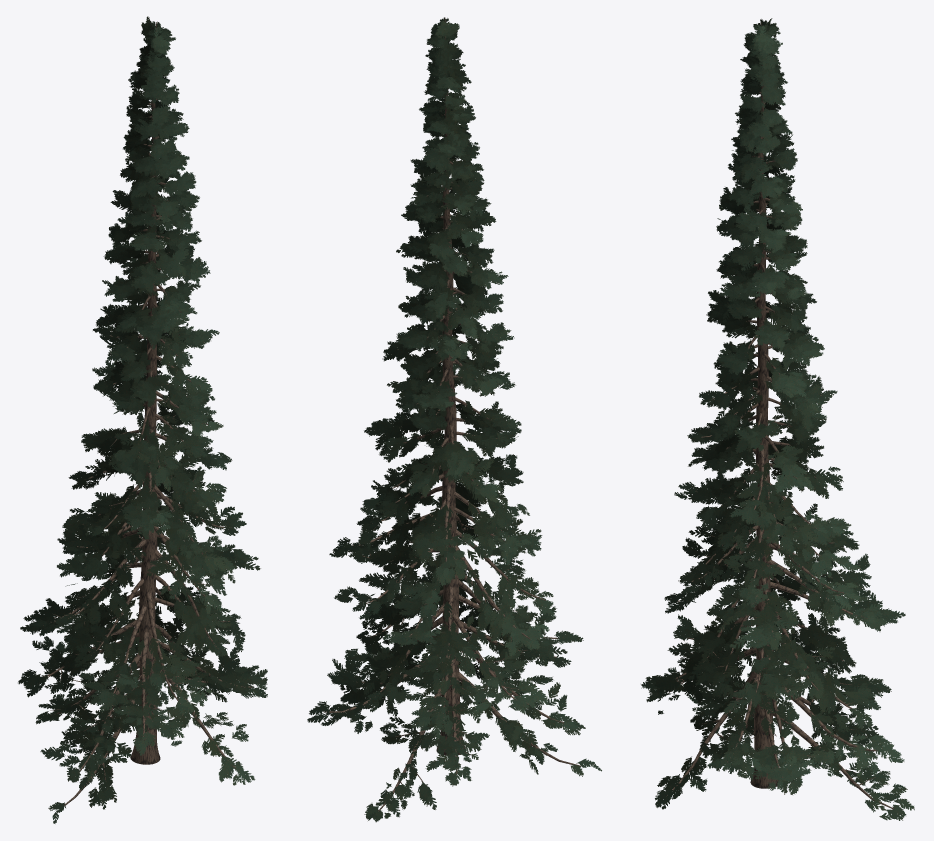
File: pine_c.glb
3 views of the same model, side by side, from view 1: azimuth 30°, elevation 25°; view 2: azimuth 150°, elevation 25°; view 3: azimuth 270°, elevation 25° (orthographic). The views are drawn at different scales.
Parts seen in each view (by area): view 1: pine_c; view 2: pine_c; view 3: pine_c.
Boxes of the visible parts, x1,y1,x2,y2 form: pine_c: [18, 16, 267, 823]; pine_c: [307, 17, 601, 822]; pine_c: [641, 18, 914, 820].
Bounding box in the file's own units: 10.84 × 32.57 × 10.43.
Materials: 2 (2 with a texture image).
